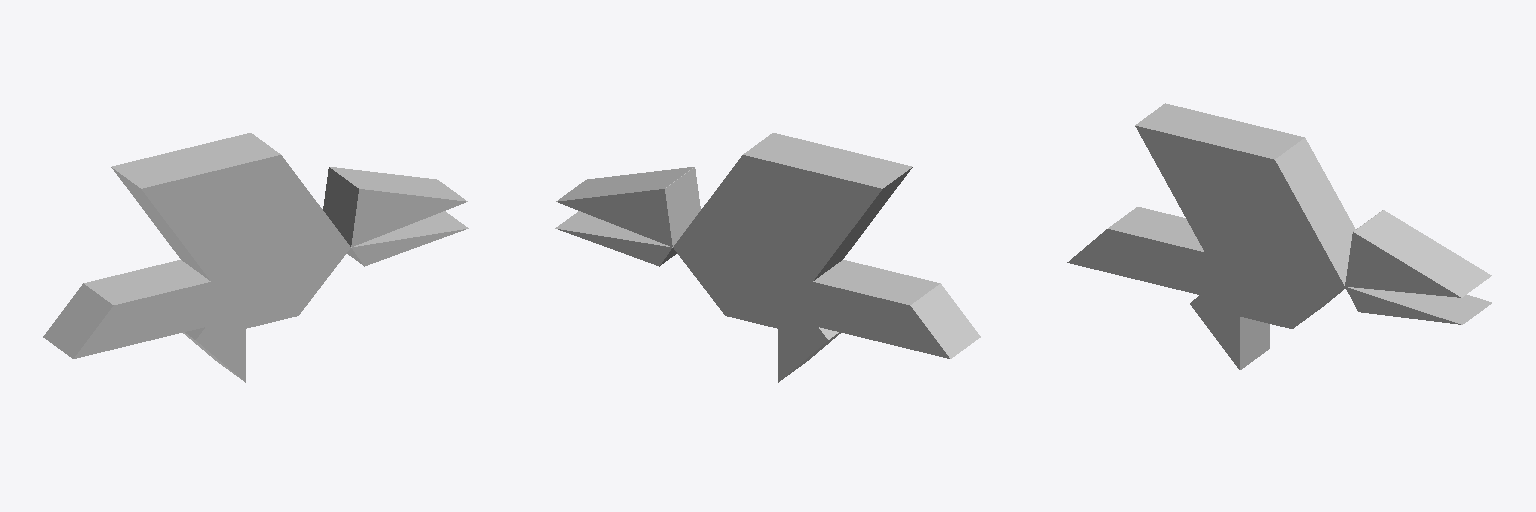
The model's file is personaje.obj.
3 renders of one model, left to right at view 1: azimuth 30°, elevation 25°; view 2: azimuth 150°, elevation 25°; view 3: azimuth 330°, elevation 25°, orthographic.
Visible parts, largest first — view 1: Alas, Cola, Cabeza_arriba, Cuerpo, Patas, Cabeza_abajo; view 2: Alas, Cola, Cabeza_arriba, Cuerpo, Patas, Cabeza_abajo; view 3: Alas, Cola, Cabeza_arriba, Cuerpo, Patas, Cabeza_abajo.
Boxes of the visible parts, <box> form: Alas: <box>111,133,350,281</box>; Cola: <box>43,260,245,358</box>; Cabeza_arriba: <box>323,167,467,246</box>; Cuerpo: <box>246,248,349,328</box>; Patas: <box>183,274,245,382</box>; Cabeza_abajo: <box>347,211,468,266</box>; Alas: <box>673,133,912,281</box>; Cola: <box>778,260,980,358</box>; Cabeza_arriba: <box>556,167,700,246</box>; Cuerpo: <box>674,248,777,328</box>; Patas: <box>778,274,840,382</box>; Cabeza_abajo: <box>555,211,676,266</box>; Alas: <box>1135,103,1355,286</box>; Cola: <box>1067,207,1238,294</box>; Cabeza_arriba: <box>1345,210,1491,297</box>; Cuerpo: <box>1240,261,1345,328</box>; Patas: <box>1190,261,1269,369</box>; Cabeza_abajo: <box>1345,287,1491,324</box>.
Size of the model in its own units: 75.35 by 40 by 10.